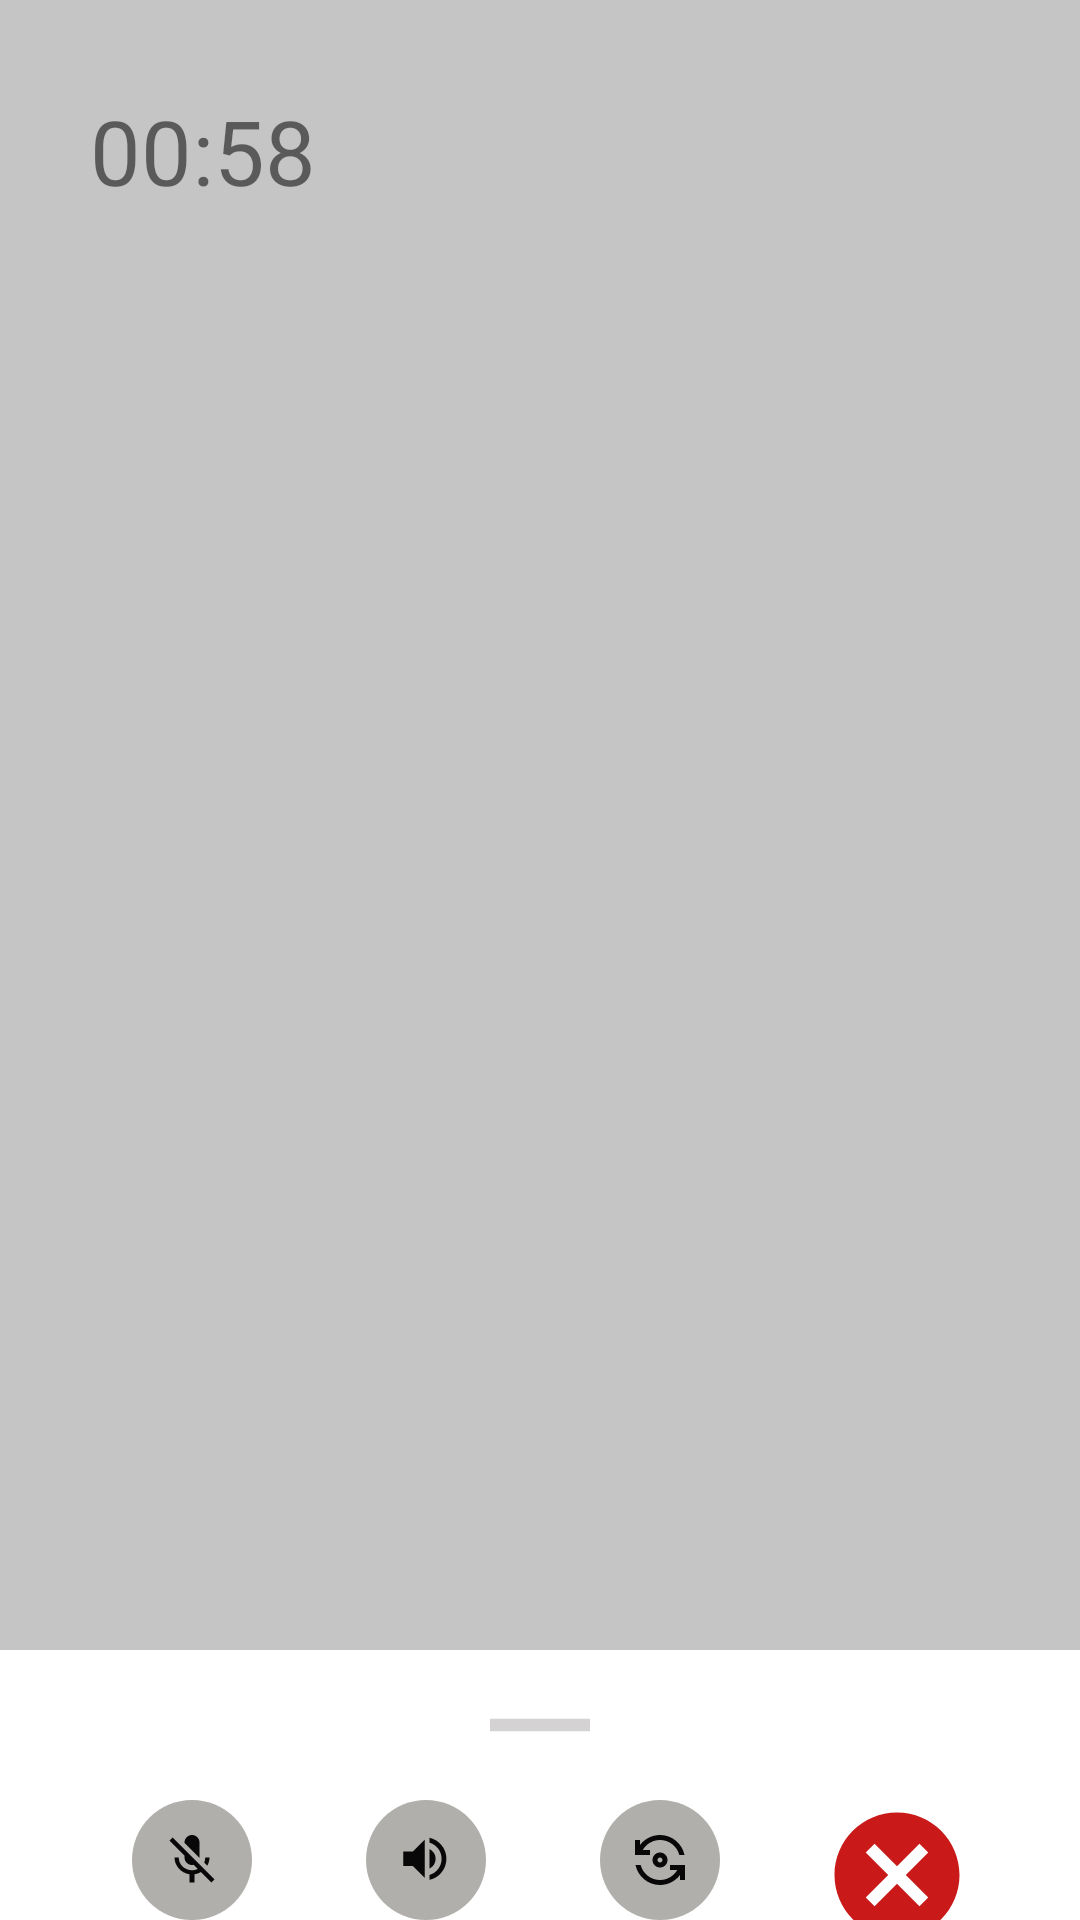

Locate icon controls on the screen. Image size 1080 x 1920, boxes as BBox(x1, y1, x2, y2).
flipcamera: BBox(600, 1800, 720, 1920)
mute: BBox(132, 1800, 252, 1920)
volume: BBox(366, 1800, 486, 1920)
